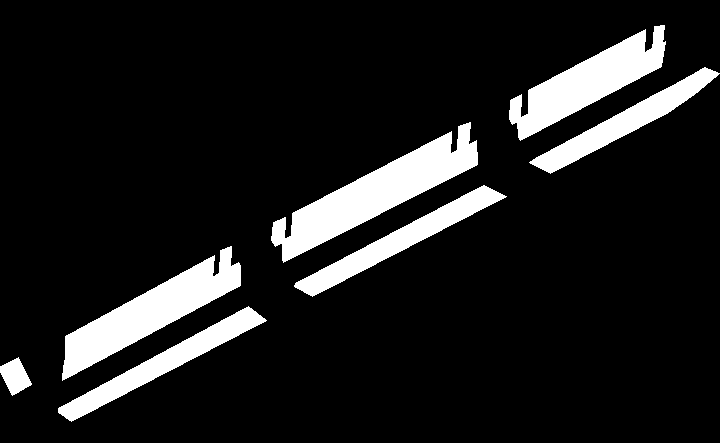parkingspot: (58, 306, 266, 421), (282, 140, 477, 262), (294, 185, 506, 296), (62, 262, 240, 380), (529, 67, 719, 173), (291, 131, 451, 237), (65, 255, 214, 361), (517, 41, 665, 140), (528, 29, 645, 115), (0, 357, 31, 395), (271, 217, 285, 246), (457, 122, 470, 151), (509, 94, 521, 124), (219, 246, 231, 274), (652, 25, 664, 50)
